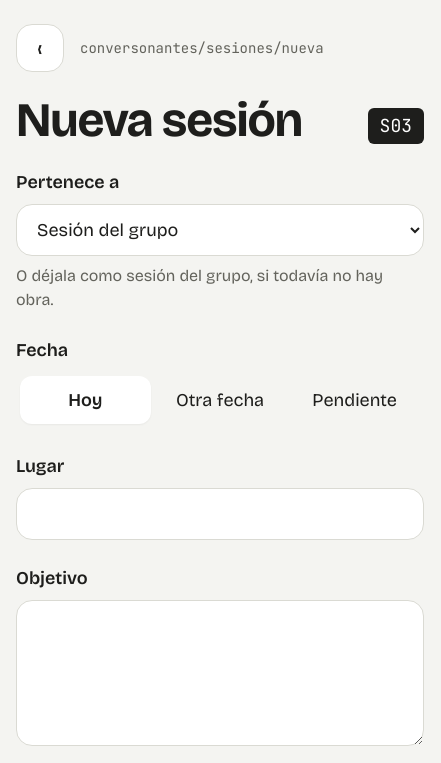
Test case: HU-07 · nueva sesión › will not submit 'otra fecha' until a date is chosen
What coordinates should you click on to do the following:
click the radio button labelled "Otra fecha"
I would click on:
 (220, 400)
Its box is [155, 376, 285, 424].
(page scrolled)
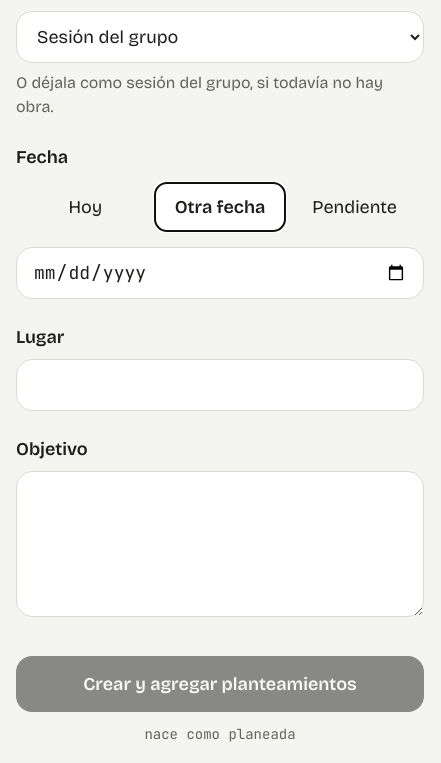
Result: the button "Crear y agregar planteamientos" is disabled at [16, 656, 424, 712]
